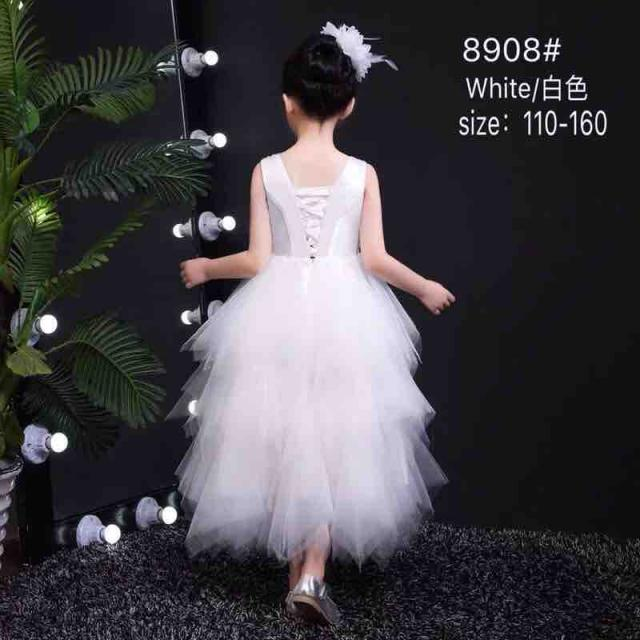clothes: (192, 145, 436, 553)
